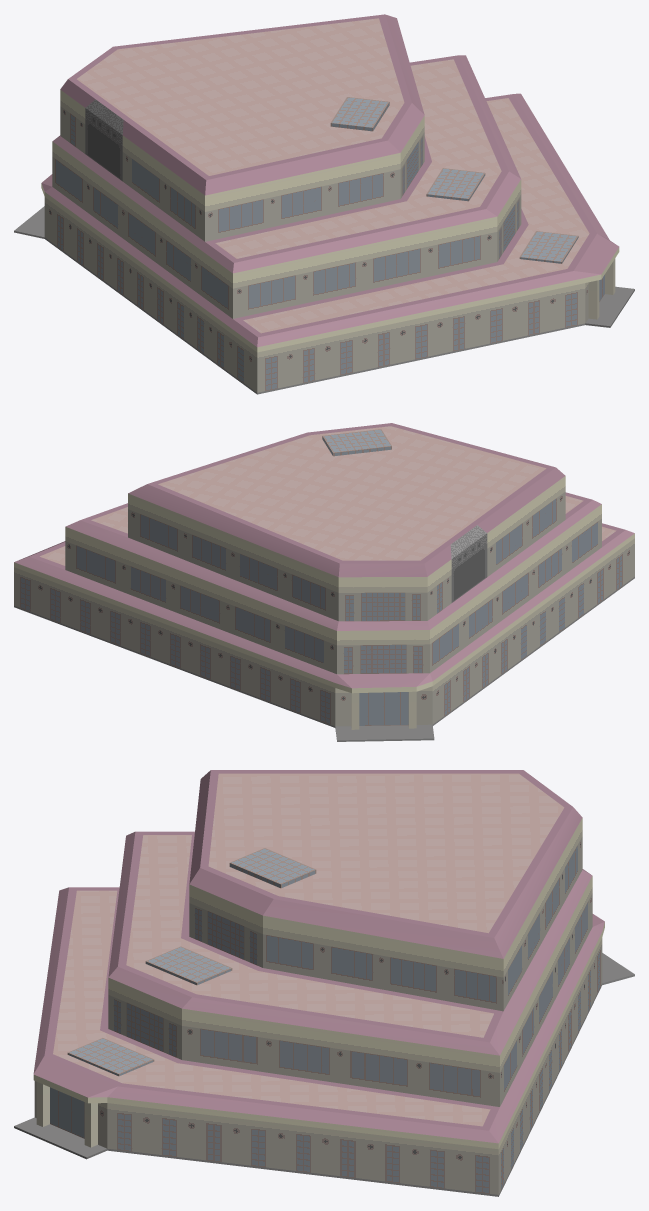
File: 055e_Old_Hotel_Building.glb
3 views of the same model, one above another, from view 1: azimuth 30°, elevation 25°; view 2: azimuth 150°, elevation 25°; view 3: azimuth 270°, elevation 25° (orthographic). The views are drawn at different scales.
Visible parts, largest first — view 1: part_0; view 2: part_0; view 3: part_0.
Part boxes in pixels (bbox=[...]): part_0: bbox=[14, 14, 634, 394]; part_0: bbox=[14, 423, 634, 741]; part_0: bbox=[14, 770, 634, 1196].
Size of the model in its own units: 28.06 by 9.33 by 28.12.
1 material, 1 textured.
